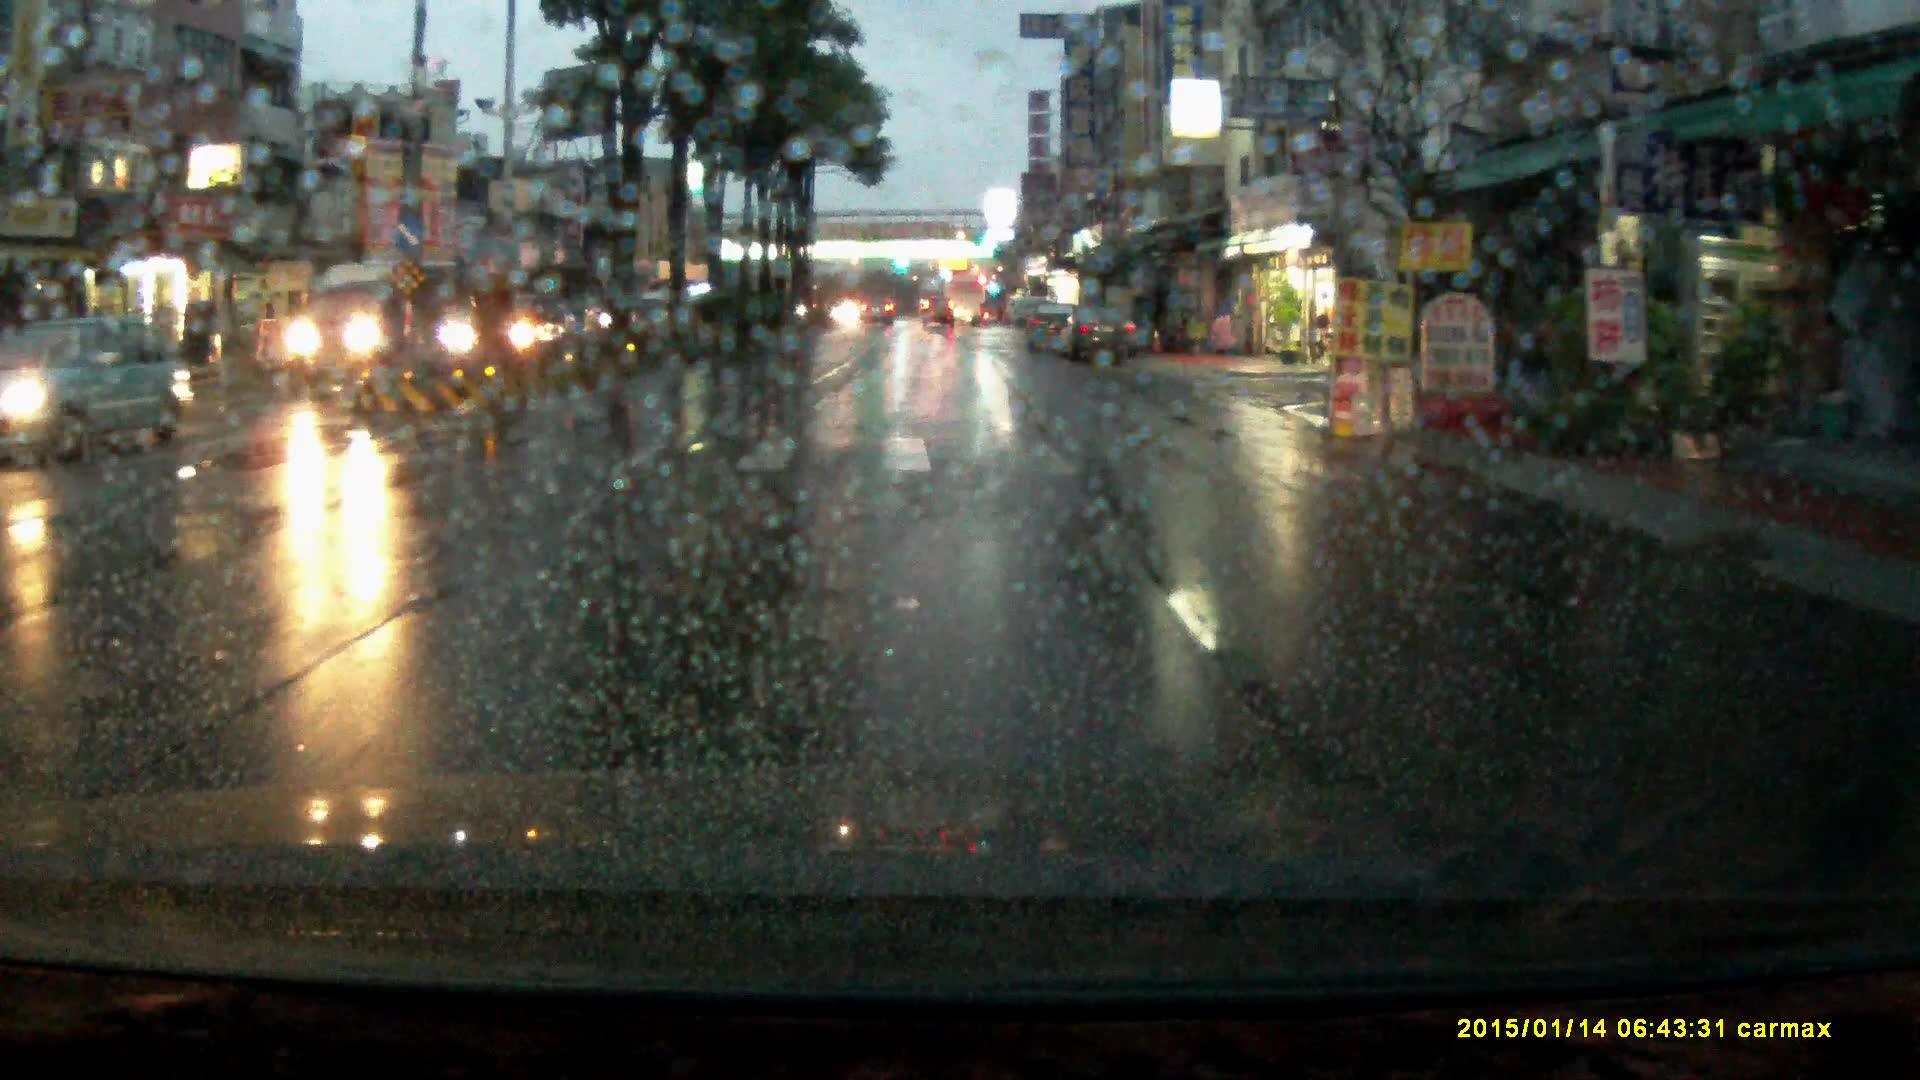vehicle: (7, 316, 178, 468), (289, 264, 458, 389), (429, 286, 556, 360), (1058, 305, 1141, 367), (1025, 301, 1080, 357), (945, 276, 986, 328), (924, 295, 957, 331), (861, 297, 897, 328)
